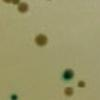Blue_green: (62, 68, 75, 82), (10, 92, 20, 100)
brown: (33, 33, 52, 49), (17, 2, 30, 14), (63, 87, 73, 97), (78, 80, 87, 89), (2, 0, 12, 6), (12, 0, 19, 6)
